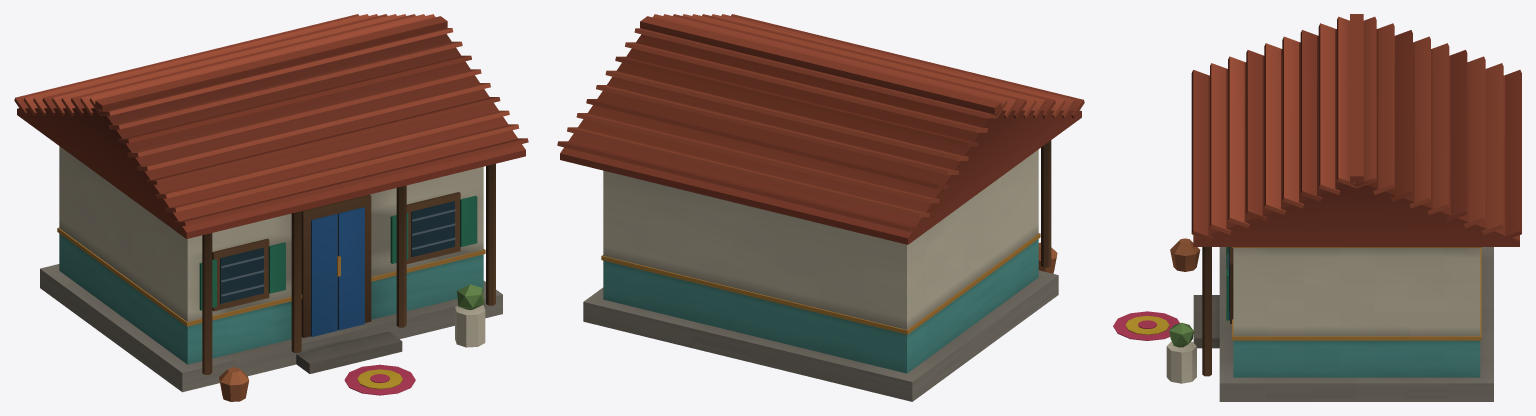
The model's file is sundargram-house.glb.
3 views of the same model, side by side, from view 1: azimuth 30°, elevation 25°; view 2: azimuth 150°, elevation 25°; view 3: azimuth 270°, elevation 25° (orthographic). The views are drawn at different scales.
Parts seen in each view (by area): view 1: sundargram-house; view 2: sundargram-house; view 3: sundargram-house.
Part boxes in pixels (left/top/right/bottom): sundargram-house: left=14, top=14, right=528, bottom=401; sundargram-house: left=557, top=14, right=1084, bottom=401; sundargram-house: left=1113, top=14, right=1521, bottom=401.
Size of the model in its own units: 5.6 by 3.72 by 5.96.
